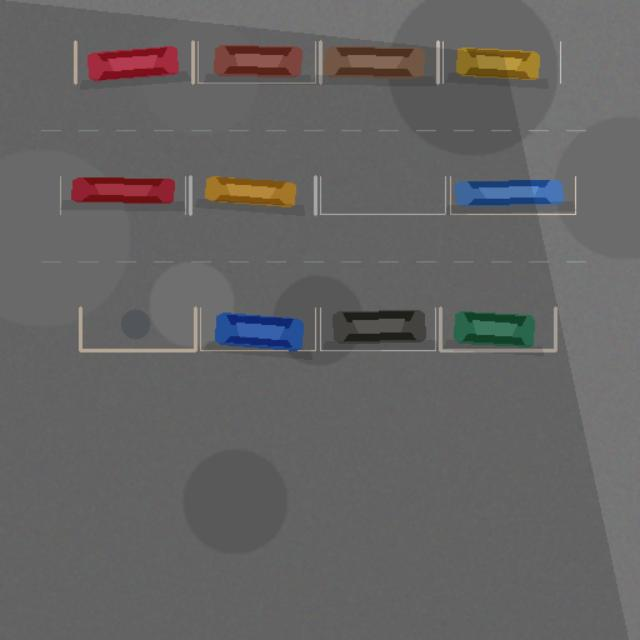space-empty: (80, 308, 195, 350), (320, 176, 445, 214)
space-occupied: (320, 41, 438, 83), (442, 41, 560, 83), (75, 41, 192, 83), (198, 41, 315, 83), (200, 308, 315, 350), (320, 308, 435, 350), (440, 308, 555, 350), (60, 176, 185, 214), (190, 176, 315, 214), (450, 176, 575, 214)
